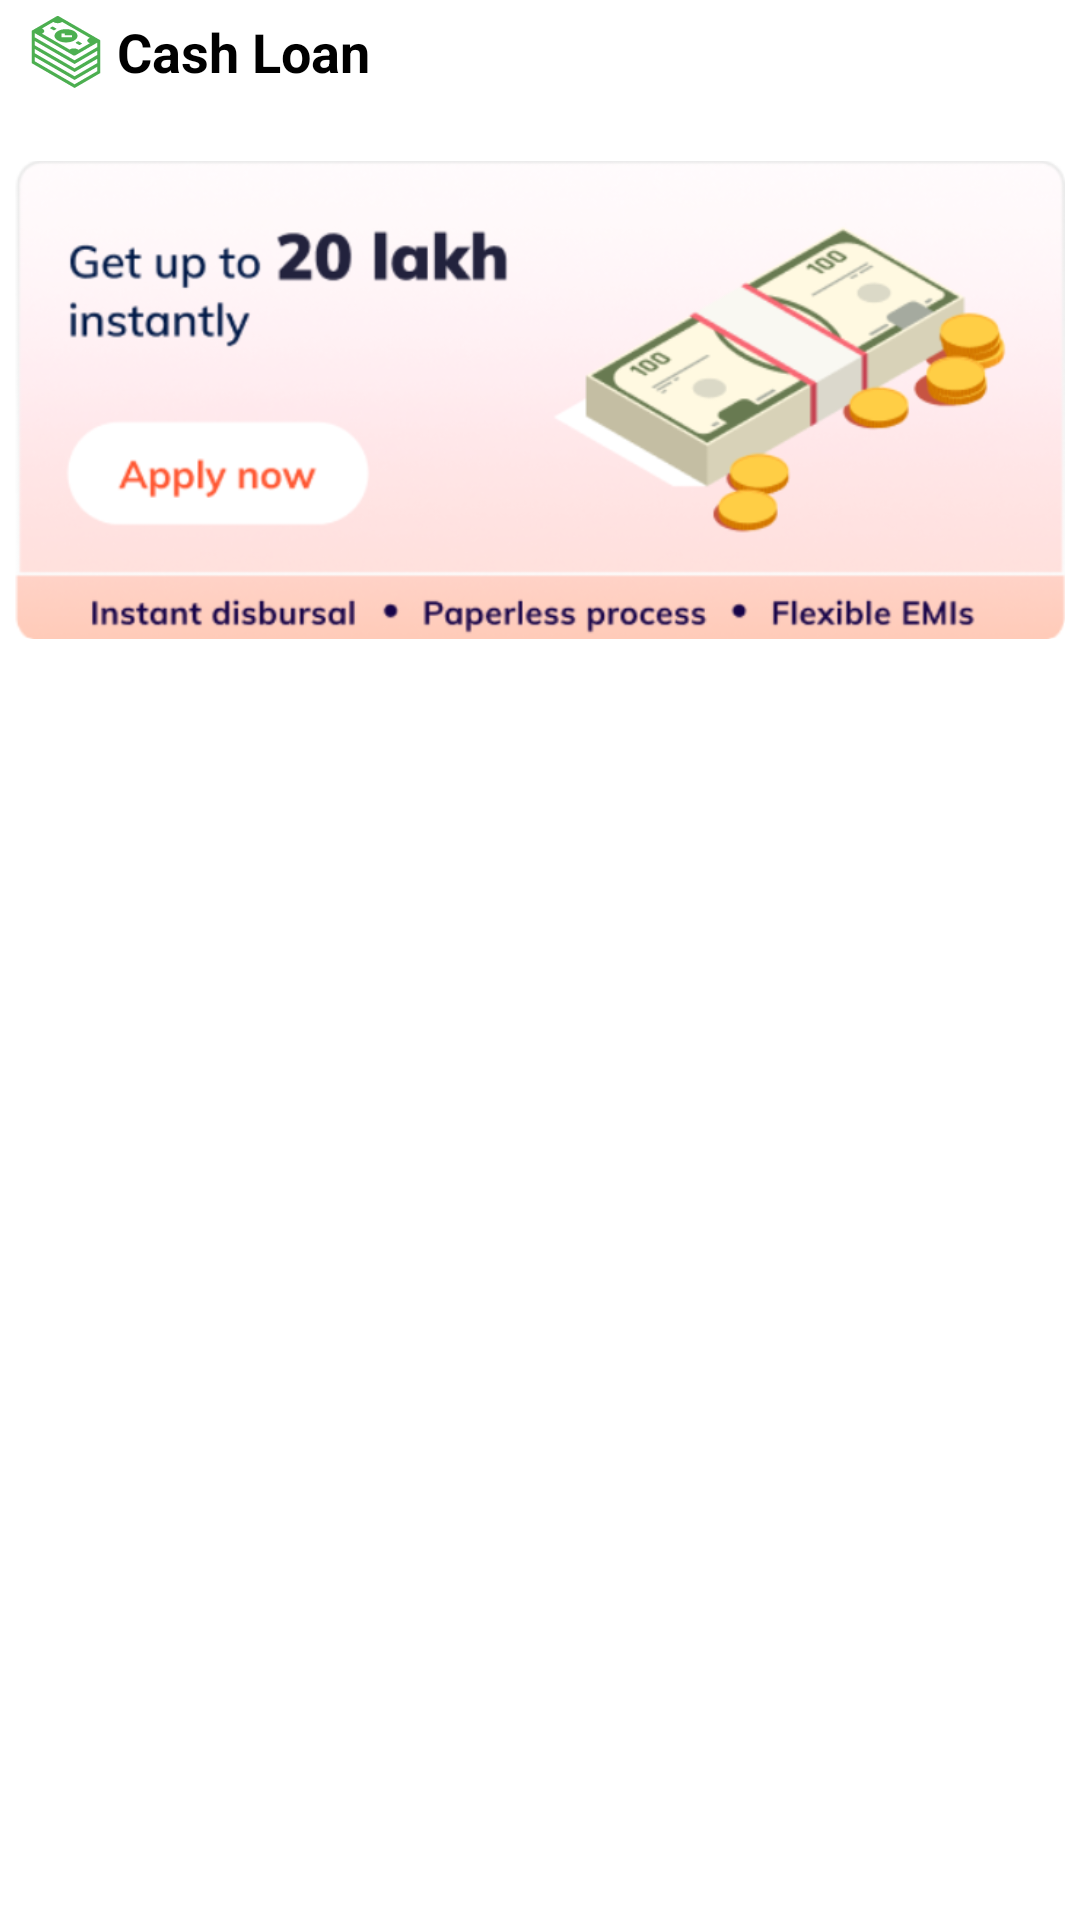

Screen size 1080 × 1920. Icon name, then its center in pixels as (x=x, y=y):
money: (x=66, y=52)
